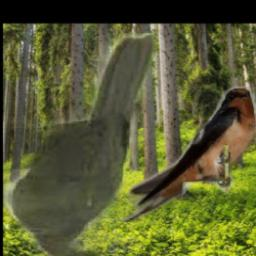Cuckoo: (3, 34, 154, 256)
Swallow: (114, 87, 255, 222)
